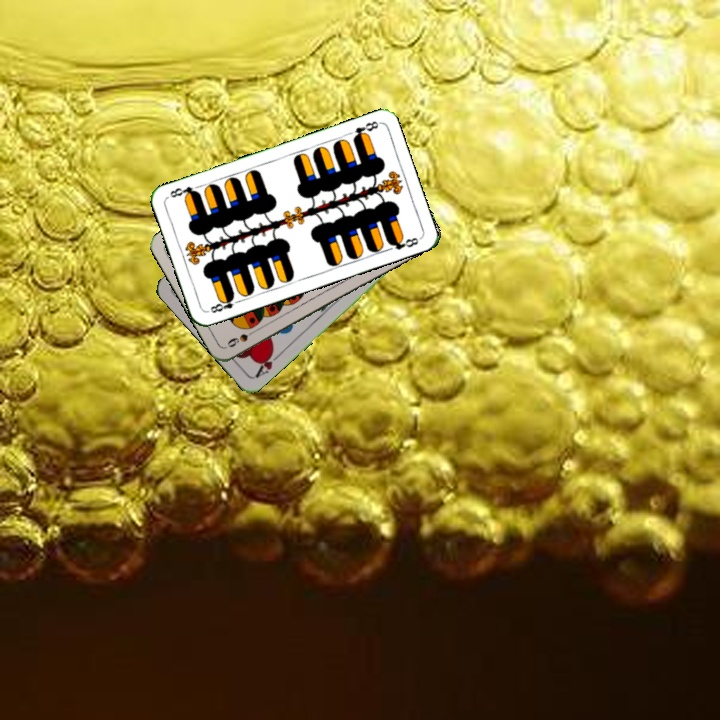E8: (206, 292, 244, 316), (349, 117, 382, 143)
HA: (251, 346, 284, 380)
S9: (223, 324, 261, 350)
